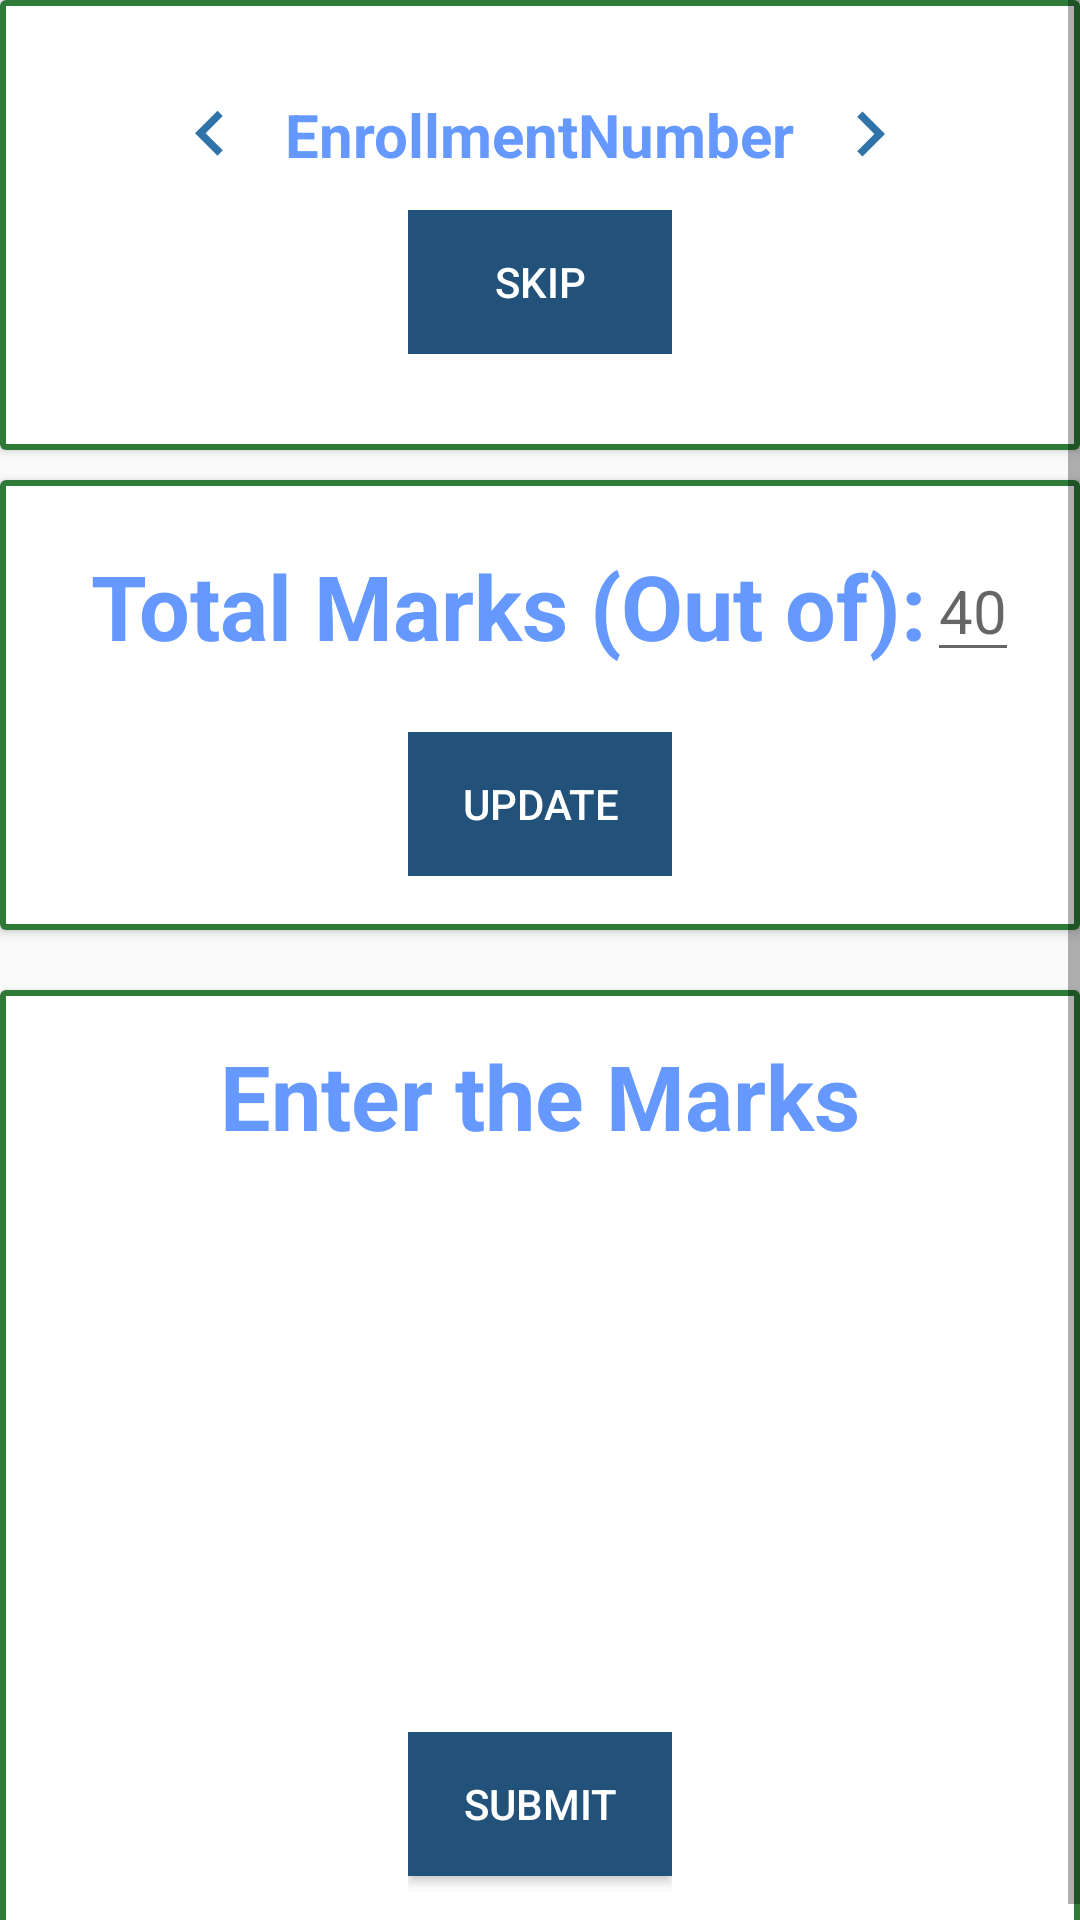

Icon click points for this 1080px×1920px phone screenshot, format (x=x, y=y):
keyboard arrow left: (x=209, y=133)
keyboard arrow right: (x=871, y=134)
